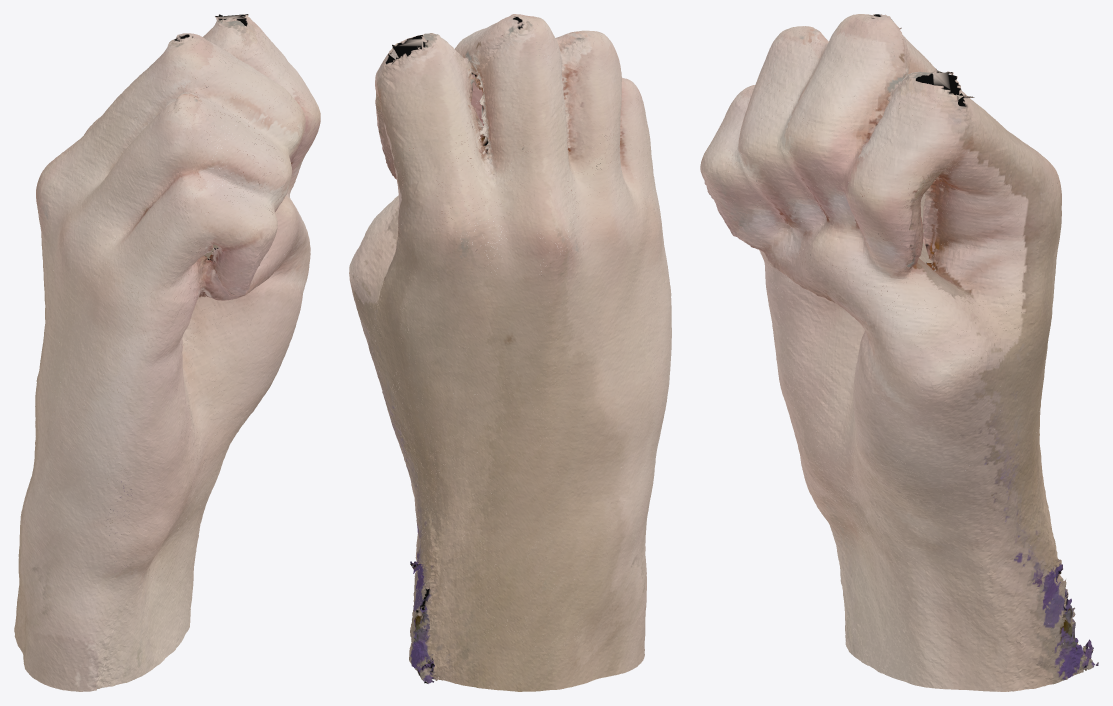
The model's file is letter_E.glb.
3 renders of one model, left to right at view 1: azimuth 30°, elevation 25°; view 2: azimuth 150°, elevation 25°; view 3: azimuth 270°, elevation 25°, orthographic. The views are drawn at different scales.
Parts seen in each view (by area): view 1: Object_2; view 2: Object_2; view 3: Object_2.
Part boxes in pixels (box(x1,y1,x2,y2)): Object_2: box(14, 14, 320, 691); Object_2: box(349, 14, 671, 691); Object_2: box(700, 14, 1098, 691).
Bounding box in the file's own units: 0.086 × 0.1807 × 0.0971.
